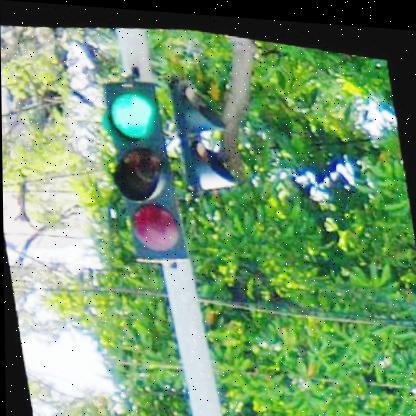Traffic Light -Green-: (101, 71, 186, 265)
